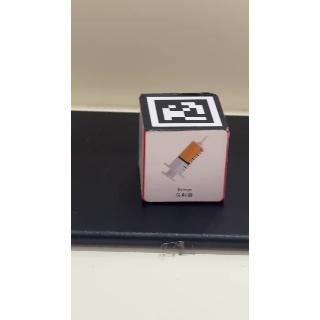Syringe: (147, 131, 228, 203)
